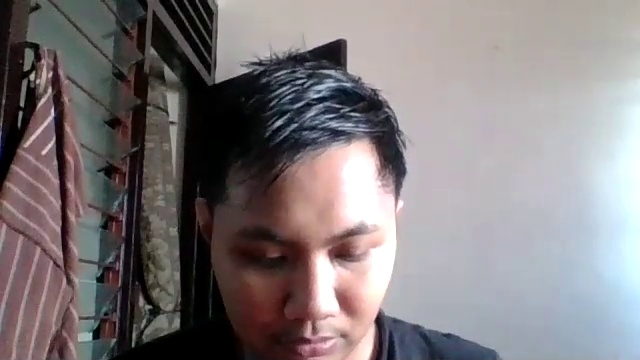Distracted: (189, 118, 409, 360)
